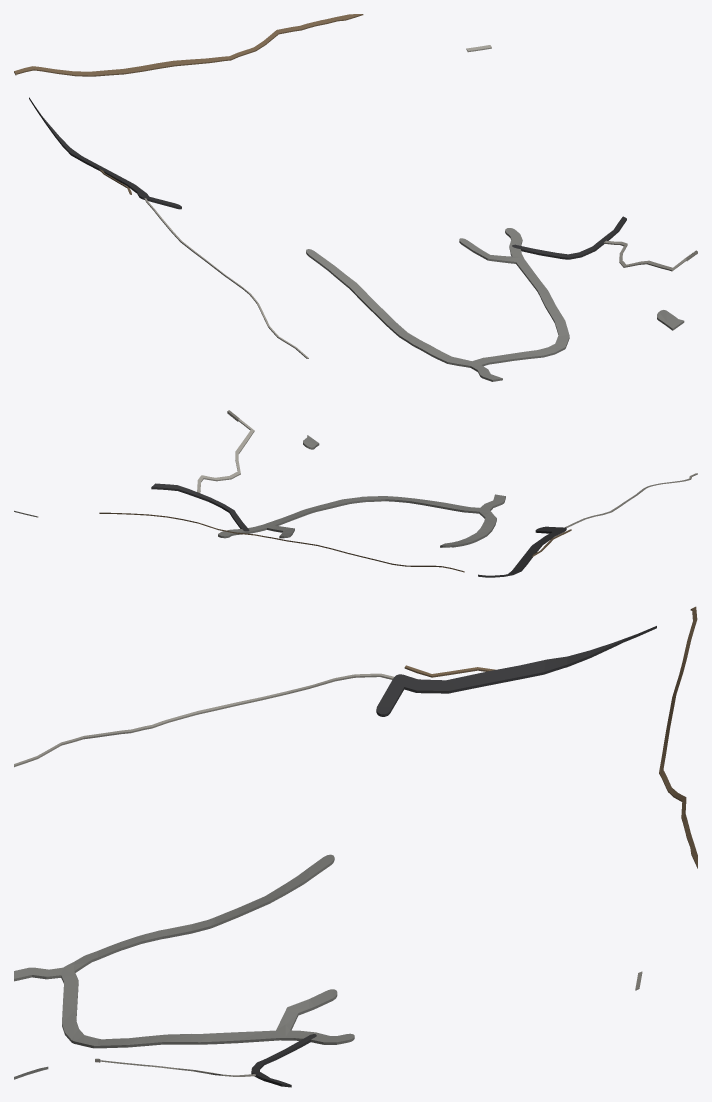
3 views of the same model, one above another, from view 1: azimuth 30°, elevation 25°; view 2: azimuth 150°, elevation 25°; view 3: azimuth 270°, elevation 25° (orthographic). The views are drawn at different scales.
Size of the model in its own units: 293 by 111 by 292.
